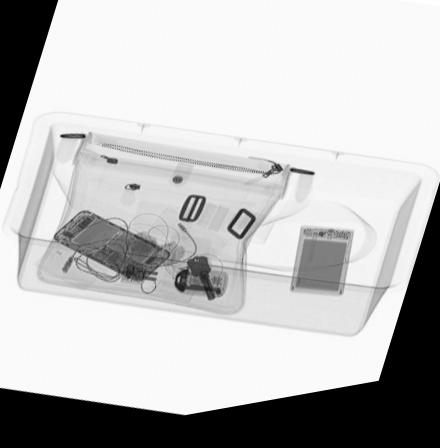Powerbank: (287, 236, 353, 311)
